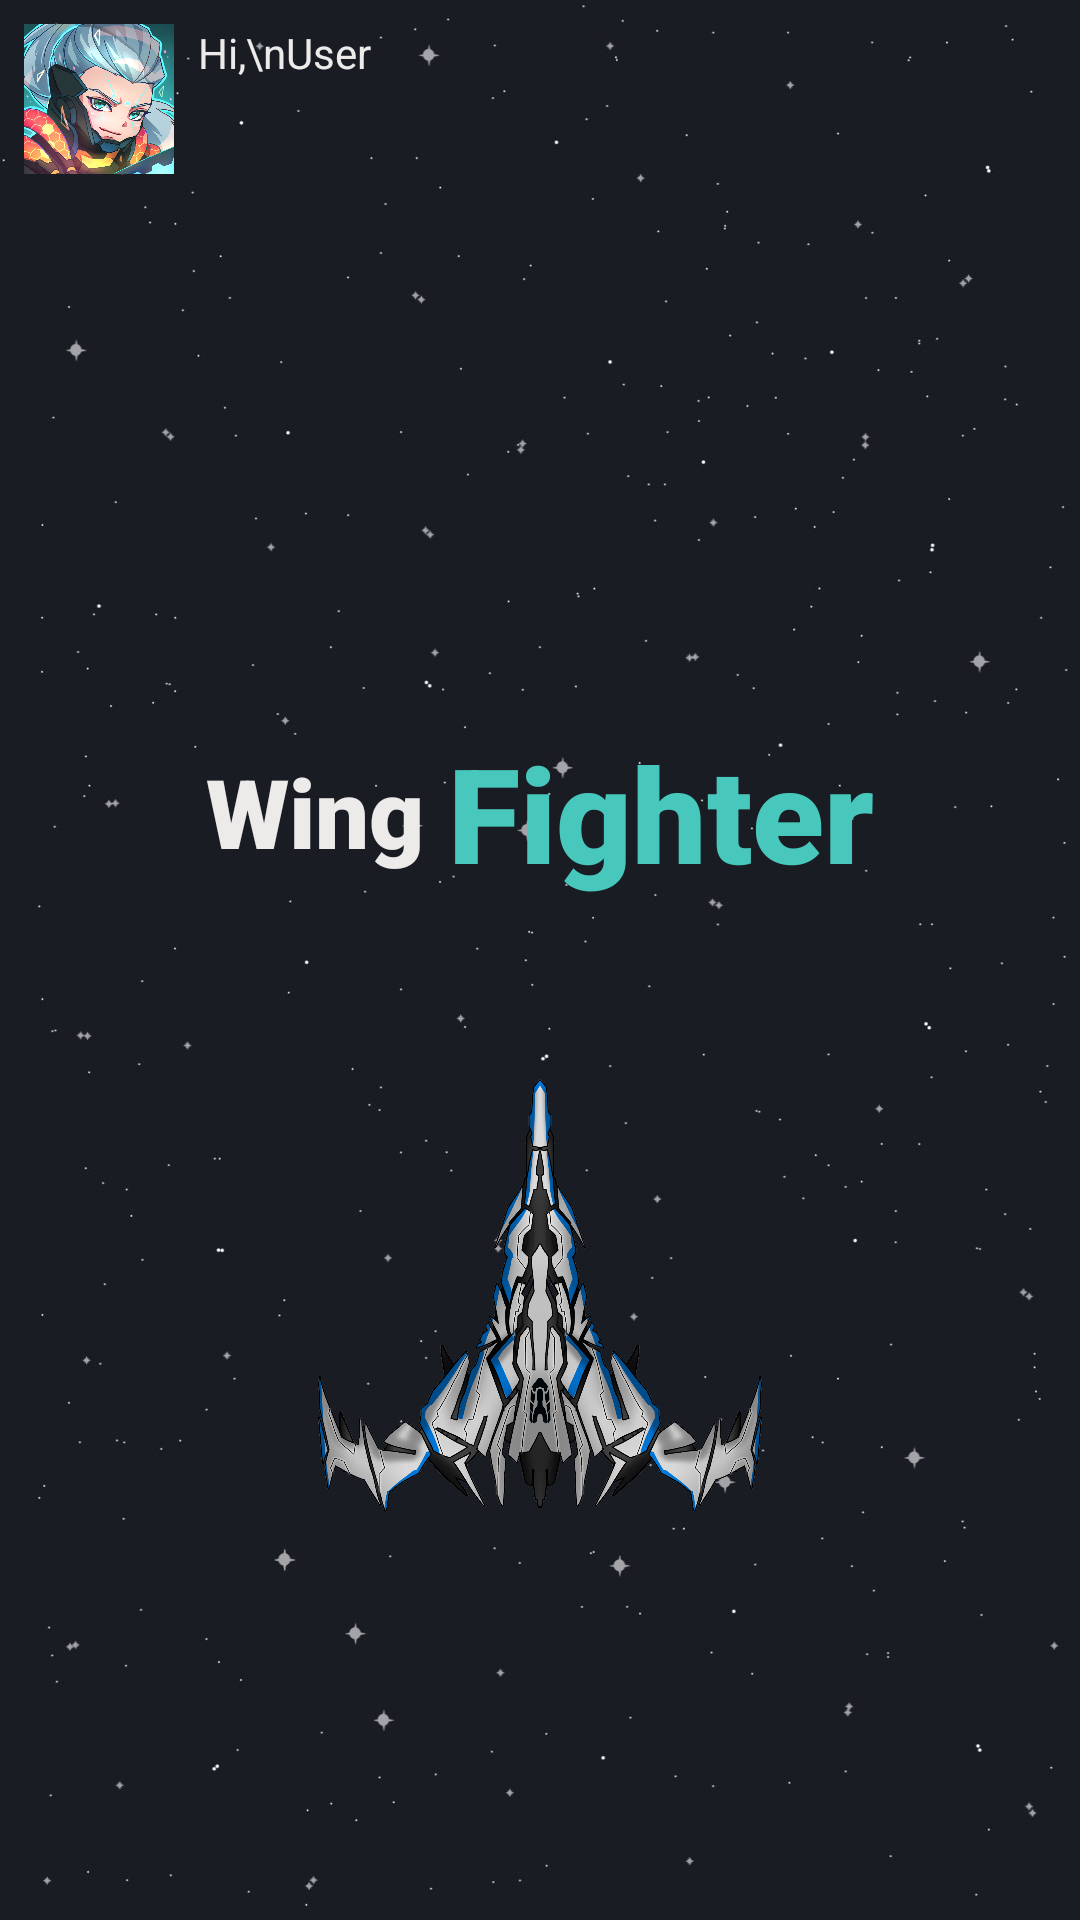

Icons on this 1080px x 1920px Android screen, each with its box as bbox=[x1, y1, x2, y2]:
avt: bbox=[24, 24, 174, 174]
